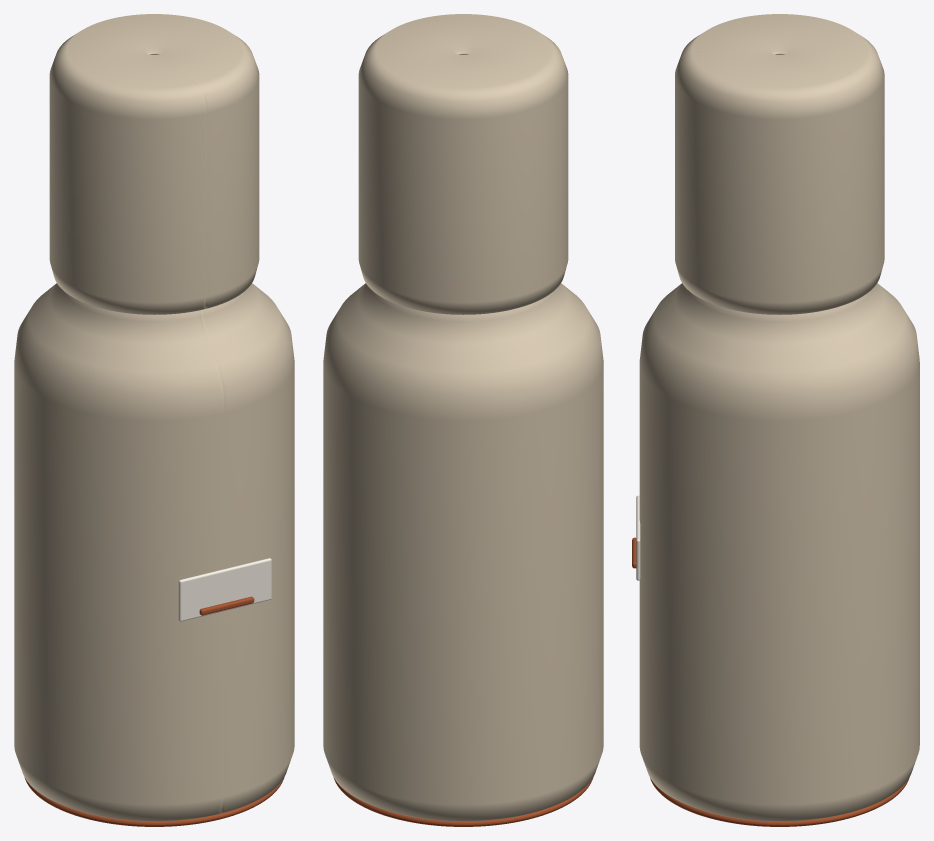
File: gt-airless-030.glb
The picture shows the model from 3 angles, left to right: view 1: azimuth 30°, elevation 25°; view 2: azimuth 150°, elevation 25°; view 3: azimuth 270°, elevation 25°; orthographic projection.
Visible parts, largest first — view 1: Airless_Sculpted_Body, Airless_Removable_Cap, Configurable_Label_Plate, Airless_Base_Shadowline; view 2: Airless_Sculpted_Body, Airless_Removable_Cap, Airless_Base_Shadowline; view 3: Airless_Sculpted_Body, Airless_Removable_Cap, Airless_Base_Shadowline.
Part boxes in pixels (<box>): Airless_Sculpted_Body: <box>14,283,294,821</box>; Airless_Removable_Cap: <box>49,14,259,314</box>; Configurable_Label_Plate: <box>178,558,271,621</box>; Airless_Base_Shadowline: <box>24,777,284,826</box>; Airless_Sculpted_Body: <box>323,283,603,821</box>; Airless_Removable_Cap: <box>358,14,568,314</box>; Airless_Base_Shadowline: <box>333,777,593,826</box>; Airless_Sculpted_Body: <box>639,283,919,821</box>; Airless_Removable_Cap: <box>675,14,884,314</box>; Airless_Base_Shadowline: <box>650,778,909,826</box>.
Bounding box in the file's own units: 1.47 × 4.18 × 1.51.
